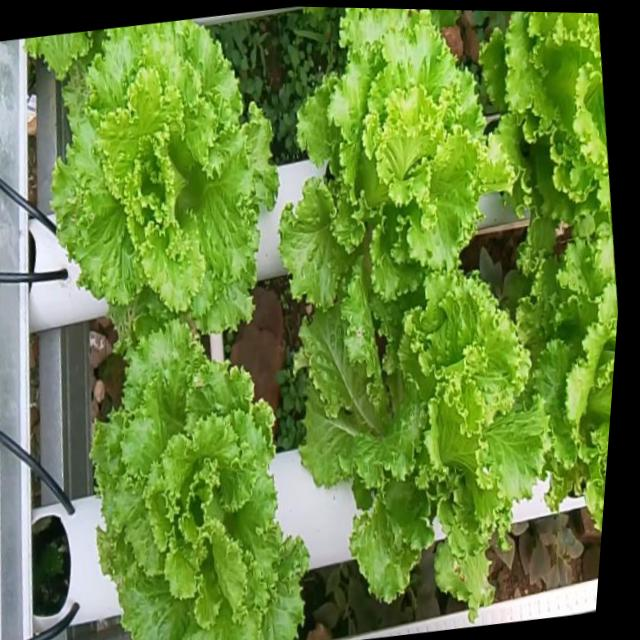Mature: (296, 273, 548, 607), (30, 20, 284, 343), (283, 8, 518, 310), (95, 321, 314, 640)
